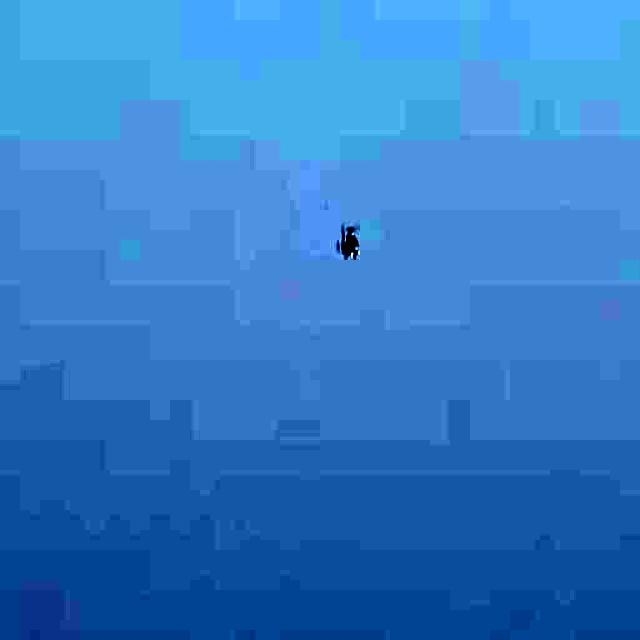drone: (339, 222, 361, 264)
